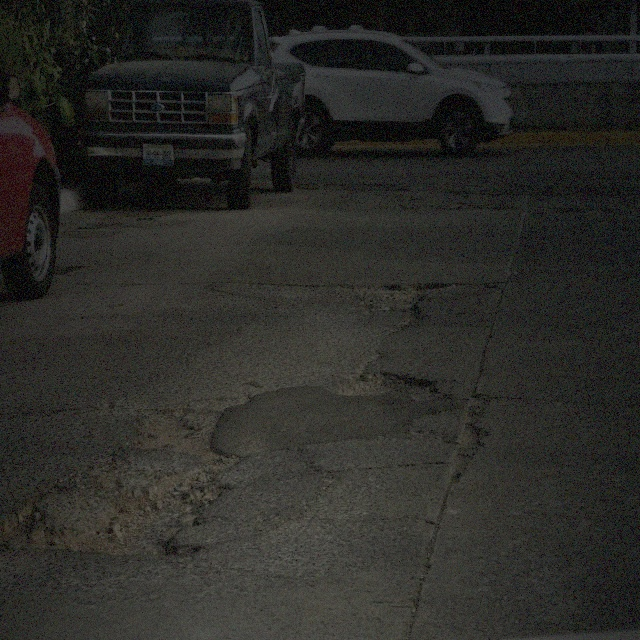pothole: (2, 465, 225, 563), (66, 468, 230, 554), (121, 405, 242, 473), (337, 364, 444, 406), (448, 397, 490, 484), (2, 500, 59, 554), (352, 282, 459, 310), (558, 202, 578, 215), (405, 194, 423, 202)
